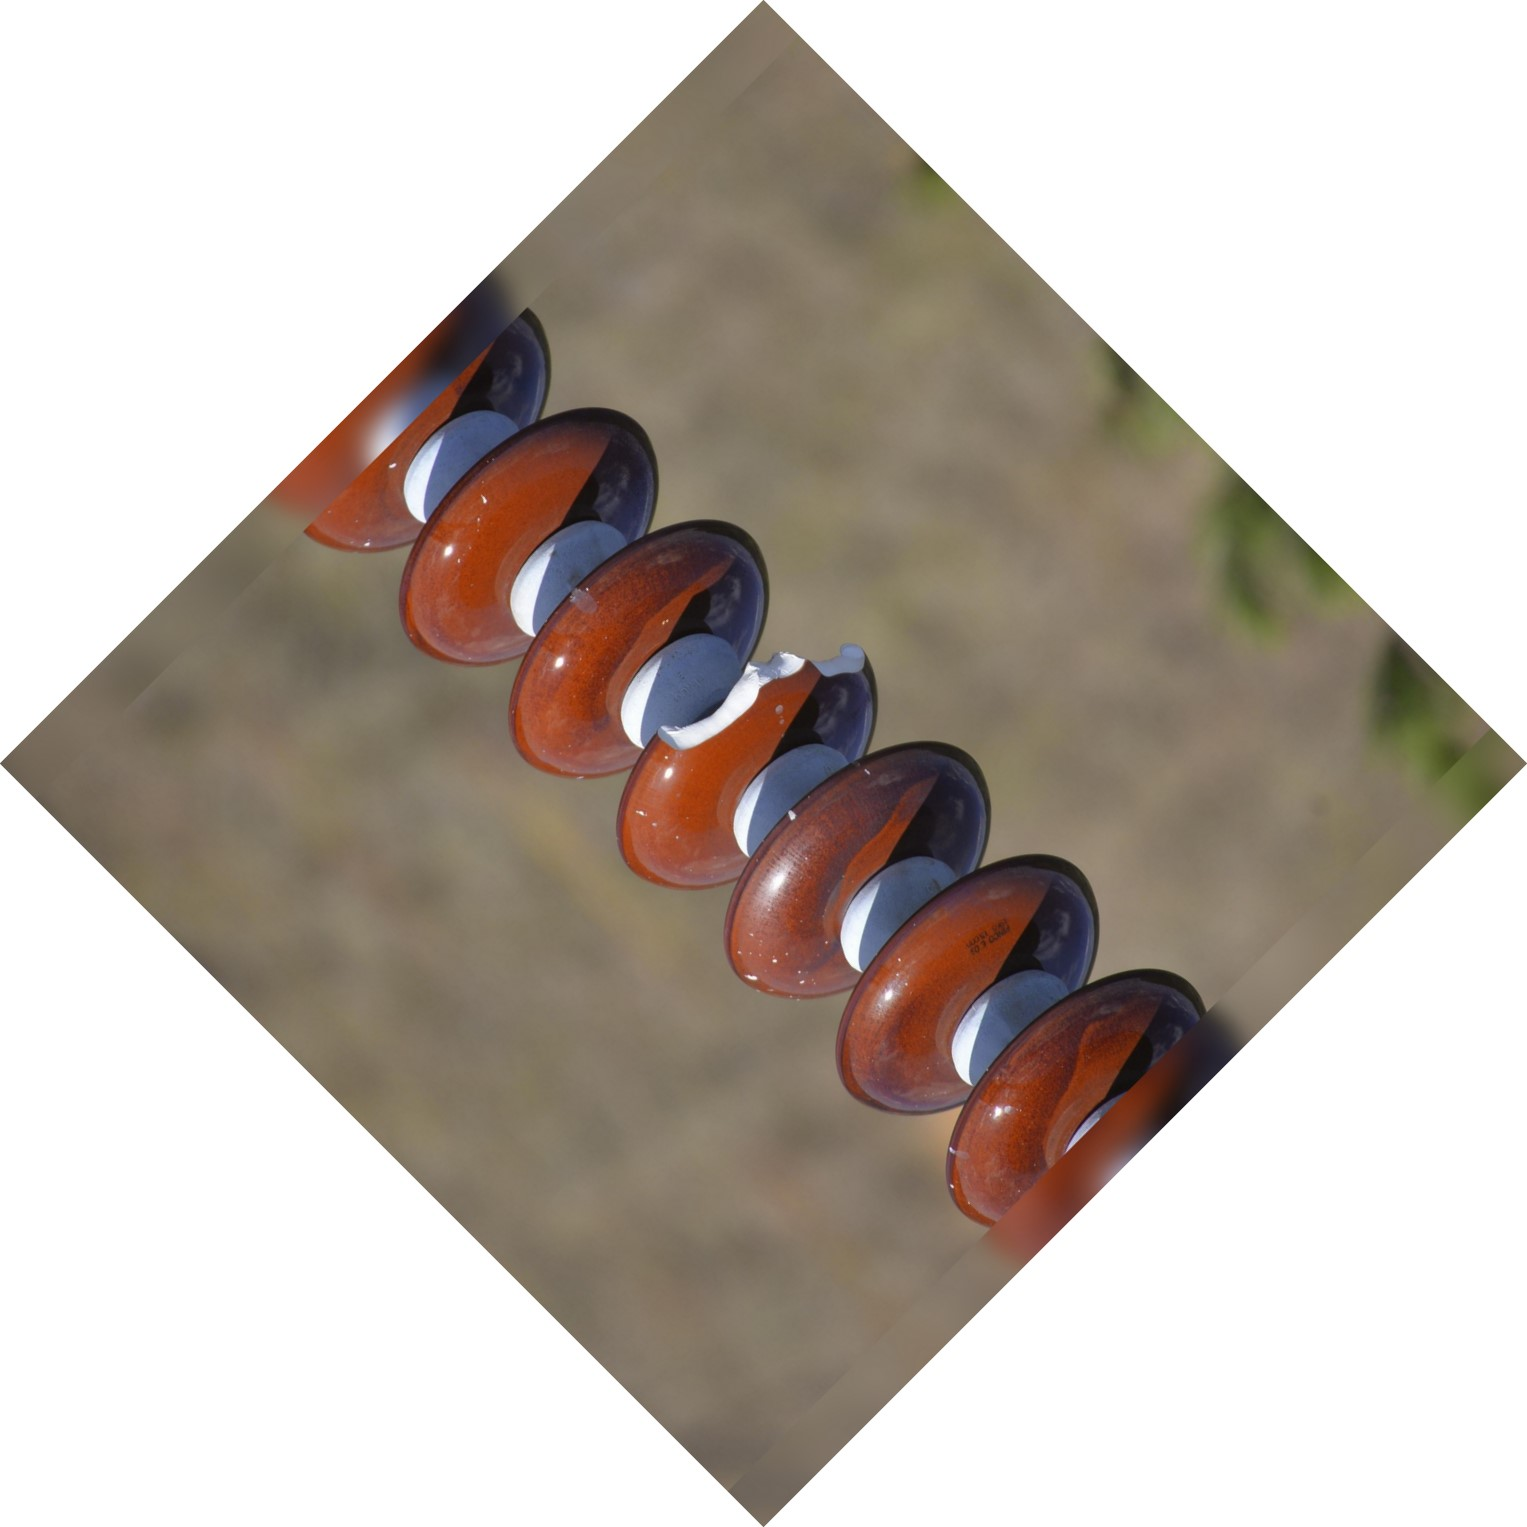insulator breakage: (598, 626, 891, 895)
